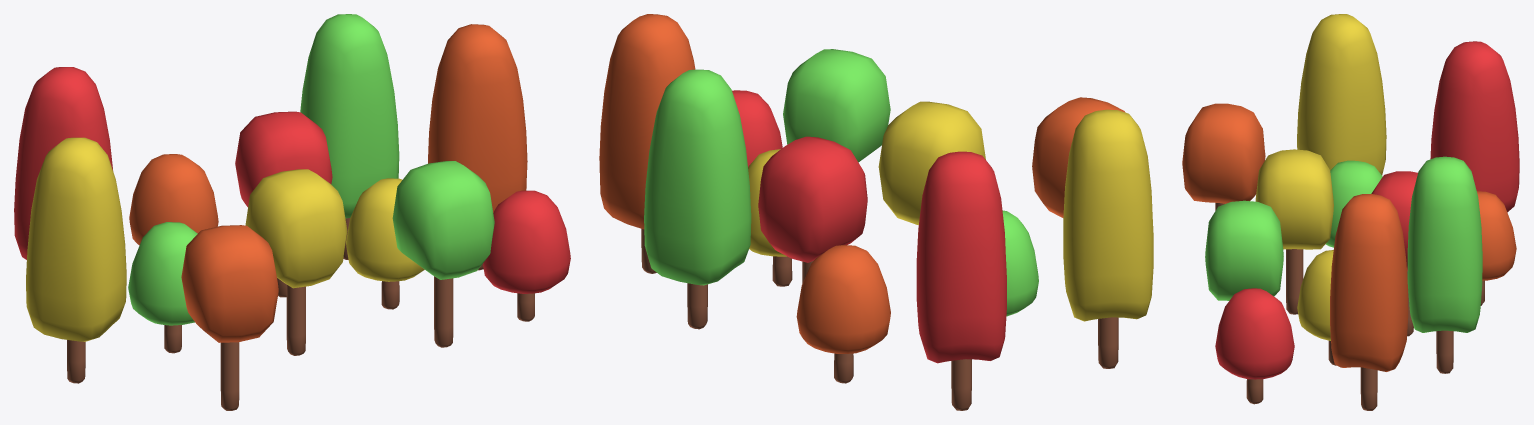
The model's file is TreeForest.fbx.
3 renders of one model, left to right at view 1: azimuth 30°, elevation 25°; view 2: azimuth 150°, elevation 25°; view 3: azimuth 270°, elevation 25°, orthographic. The views are drawn at different scales.
Visible parts, largest first — view 1: YellowTall, GreenTall, OrangeTall, GreenMedium, OrangeMedium, YellowMedium, RedTall, RedShort, RedMedium, GreenShort, OrangeShort, YellowShort; view 2: GreenTall, RedTall, YellowTall, OrangeTall, RedMedium, GreenMedium, OrangeShort, YellowMedium, OrangeMedium, GreenShort, RedShort, YellowShort; view 3: OrangeTall, GreenTall, YellowTall, RedTall, YellowMedium, OrangeMedium, GreenMedium, RedShort, OrangeShort, YellowShort, GreenShort, RedMedium.
Part boxes in pixels (x1,y1,x2,y2): YellowTall: (26, 137, 126, 383); GreenTall: (300, 14, 399, 259); OrangeTall: (428, 24, 527, 270); GreenMedium: (392, 161, 494, 347); OrangeMedium: (181, 225, 278, 410); YellowMedium: (245, 169, 347, 355); RedTall: (14, 67, 112, 259); RedShort: (483, 190, 570, 321); RedMedium: (235, 111, 332, 297); GreenShort: (128, 222, 197, 353); OrangeShort: (129, 154, 218, 245); YellowShort: (346, 178, 424, 309); GreenTall: (644, 69, 751, 329); RedTall: (916, 151, 1006, 410); YellowTall: (1063, 109, 1153, 368); OrangeTall: (599, 14, 695, 273); RedMedium: (758, 136, 867, 283); GreenMedium: (783, 49, 890, 162); OrangeShort: (796, 245, 890, 383); YellowMedium: (878, 101, 985, 224); OrangeMedium: (1032, 97, 1125, 217); GreenShort: (1002, 210, 1038, 316); RedShort: (732, 90, 782, 167); YellowShort: (748, 149, 792, 286); OrangeTall: (1330, 194, 1408, 410); GreenTall: (1407, 156, 1482, 373); YellowTall: (1297, 14, 1386, 175); RedTall: (1430, 41, 1519, 212); YellowMedium: (1255, 149, 1333, 314); OrangeMedium: (1182, 103, 1265, 210); GreenMedium: (1205, 200, 1283, 300); RedShort: (1215, 288, 1294, 404); OrangeShort: (1477, 191, 1516, 305); YellowShort: (1297, 250, 1336, 365); GreenShort: (1326, 160, 1382, 247); RedMedium: (1371, 171, 1417, 336).
Bounding box in the file's own units: 5445 × 2482 × 3584.
